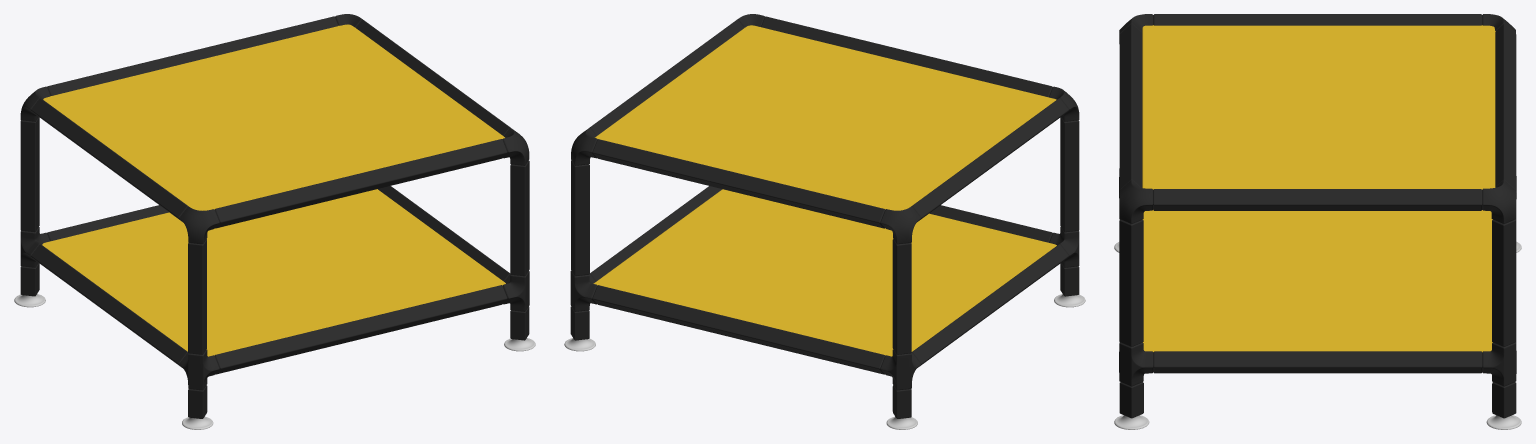
3 views of the same model, side by side, from view 1: azimuth 30°, elevation 25°; view 2: azimuth 150°, elevation 25°; view 3: azimuth 270°, elevation 25° (orthographic). The views are drawn at different scales.
Visible parts, largest first — view 1: 420x374x154; view 2: 420x374x154; view 3: 420x374x154.
Part boxes in pixels (<box>): 420x374x154: <box>14,14,535,429</box>; 420x374x154: <box>564,14,1085,429</box>; 420x374x154: <box>1114,14,1521,429</box>.
Bounding box in the file's own units: 0.5099 × 0.2933 × 0.4632.
